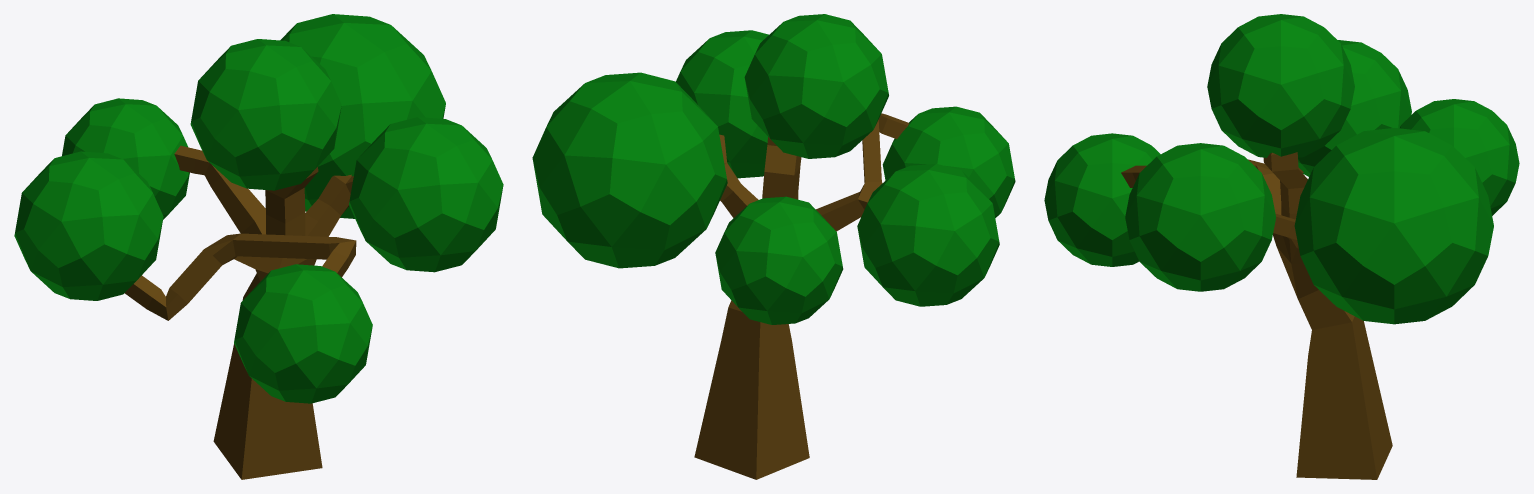
The model's file is LowPoly_Tree_Combined.fbx.
3 renders of one model, left to right at view 1: azimuth 30°, elevation 25°; view 2: azimuth 150°, elevation 25°; view 3: azimuth 270°, elevation 25°, orthographic. The views are drawn at different scales.
Visible parts, largest first — view 1: Cube; view 2: Cube; view 3: Cube.
Boxes of the visible parts, bbox=[...] form: Cube: bbox=[14, 14, 503, 479]; Cube: bbox=[532, 14, 1015, 479]; Cube: bbox=[1044, 14, 1519, 479].
Size of the model in its own units: 1368 by 1327 by 1337.
